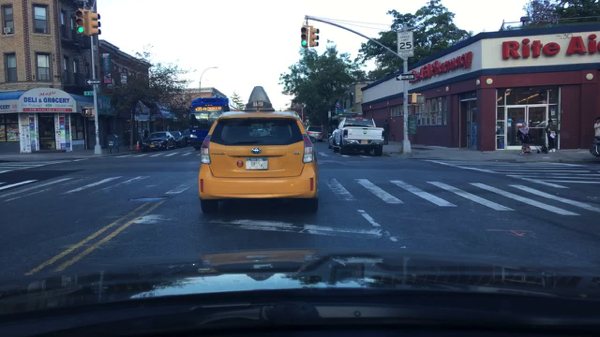bus: (188, 98, 242, 151)
car: (198, 86, 318, 214), (140, 132, 176, 153), (326, 125, 339, 150), (169, 130, 185, 148), (307, 125, 323, 143), (588, 143, 598, 159), (183, 129, 190, 145)
person: (543, 119, 558, 153), (517, 121, 532, 155), (383, 120, 389, 146), (592, 118, 598, 142), (126, 126, 131, 148), (123, 128, 128, 150), (141, 128, 148, 140)
traffic light: (88, 11, 102, 36), (74, 11, 86, 36), (308, 27, 319, 48), (301, 27, 308, 48), (416, 94, 425, 105), (81, 108, 91, 117), (410, 94, 416, 104), (89, 108, 95, 116), (420, 155, 422, 162)
traffic sign: (395, 32, 413, 58), (395, 73, 415, 81), (86, 79, 101, 85), (84, 90, 94, 96)
truck: (333, 117, 385, 157)
